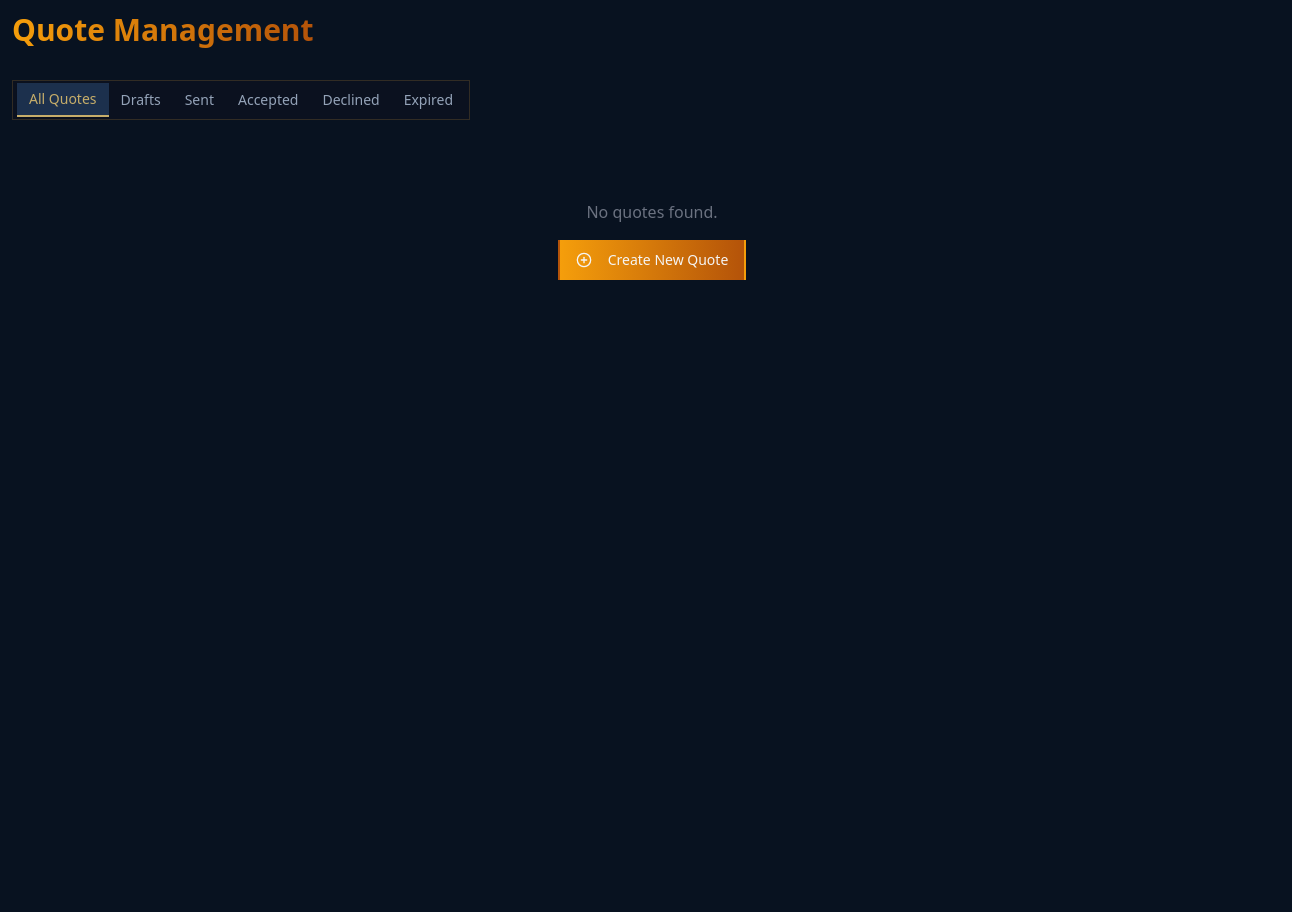
Test: QuoteManager – validation timing › does not show Client Name or Project Name errors on initial render
The image size is (1292, 912).
Click the button "Create New Quote": coordinates (652, 260) [558,240,746,280]
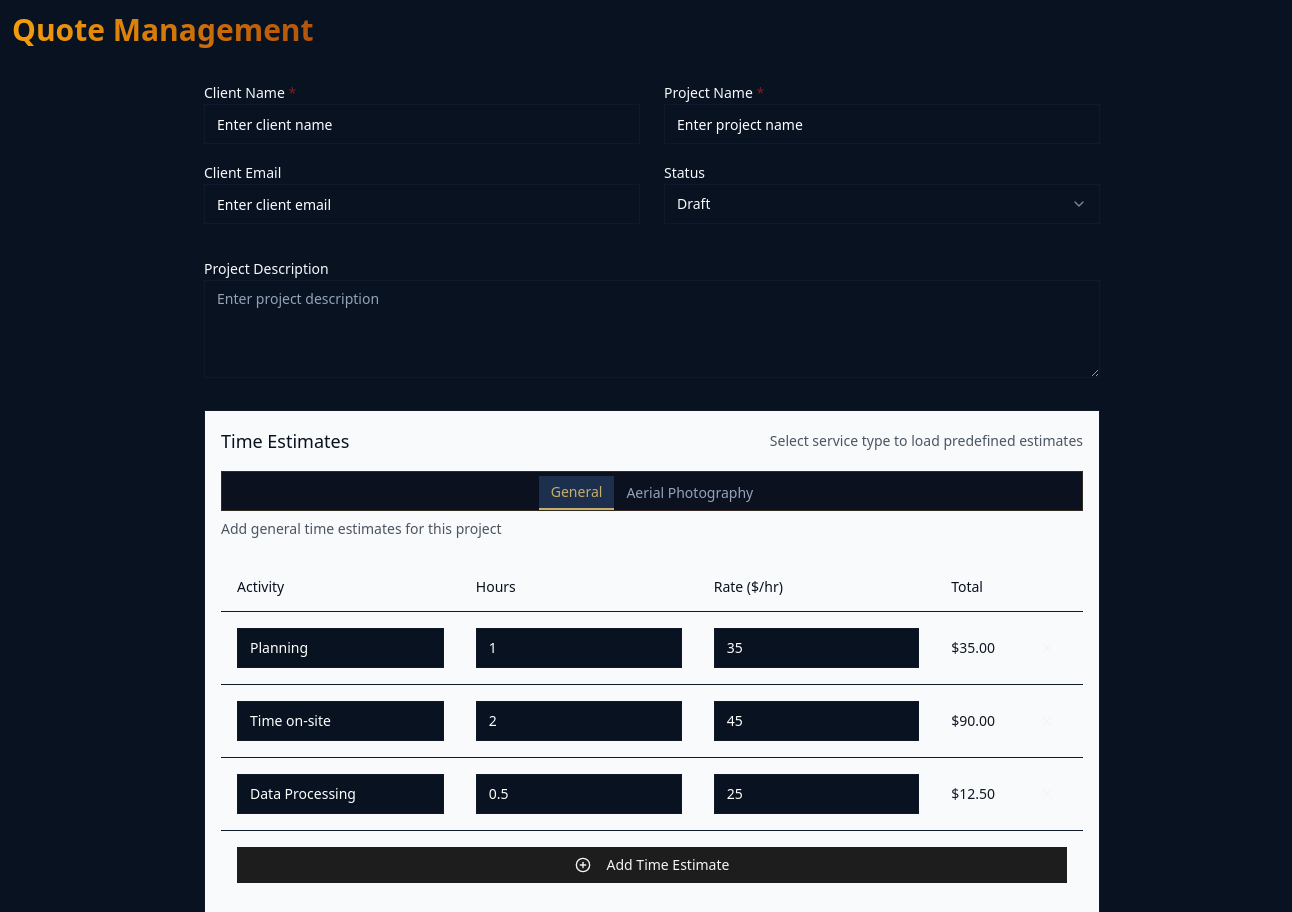
Check: the field labelled "Client Name *" is shown, box [204,104,640,144]
Check: the field labelled "Project Name *" is shown, box [664,104,1100,144]
